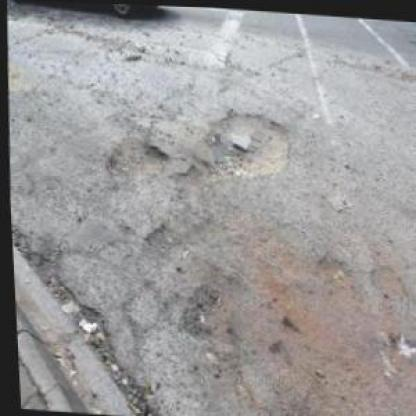pothole: (10, 251, 165, 415), (197, 105, 294, 183), (101, 132, 171, 191), (174, 280, 238, 341)
